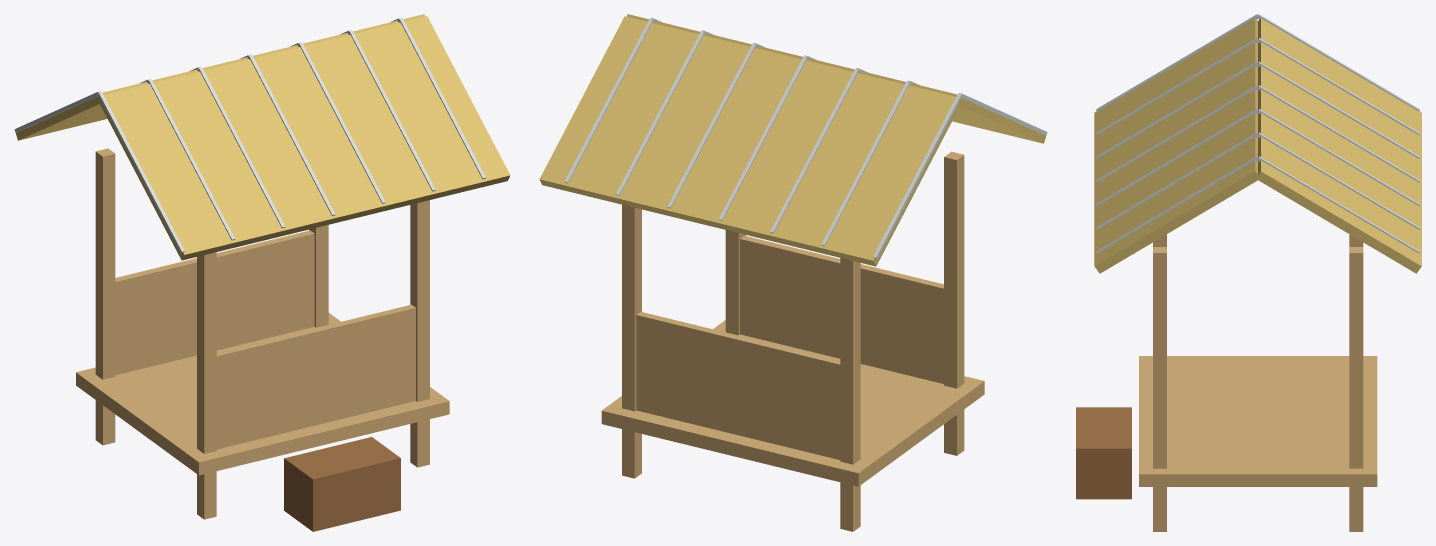
Rendered from TR3_RiceField_Hut.glb.
3 views of the same model, side by side, from view 1: azimuth 30°, elevation 25°; view 2: azimuth 150°, elevation 25°; view 3: azimuth 270°, elevation 25° (orthographic). The views are drawn at different scales.
Parts seen in each view (by area): view 1: TR3_RiceField_Hut; view 2: TR3_RiceField_Hut; view 3: TR3_RiceField_Hut.
Boxes of the visible parts, x1,y1,x2,y2 form: TR3_RiceField_Hut: (14, 14, 510, 531); TR3_RiceField_Hut: (539, 14, 1047, 531); TR3_RiceField_Hut: (1076, 14, 1421, 531).
Size of the model in its own units: 2.61 by 3.05 by 2.47.
